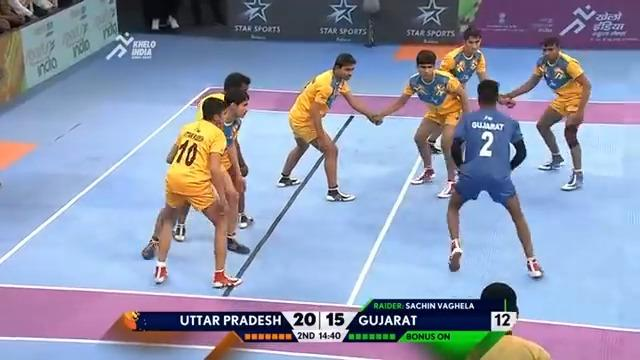Player: (141, 94, 244, 288), (276, 52, 382, 202), (370, 49, 470, 198), (497, 35, 592, 190), (464, 281, 551, 359), (438, 26, 514, 113)
Raider: (446, 79, 544, 279)
